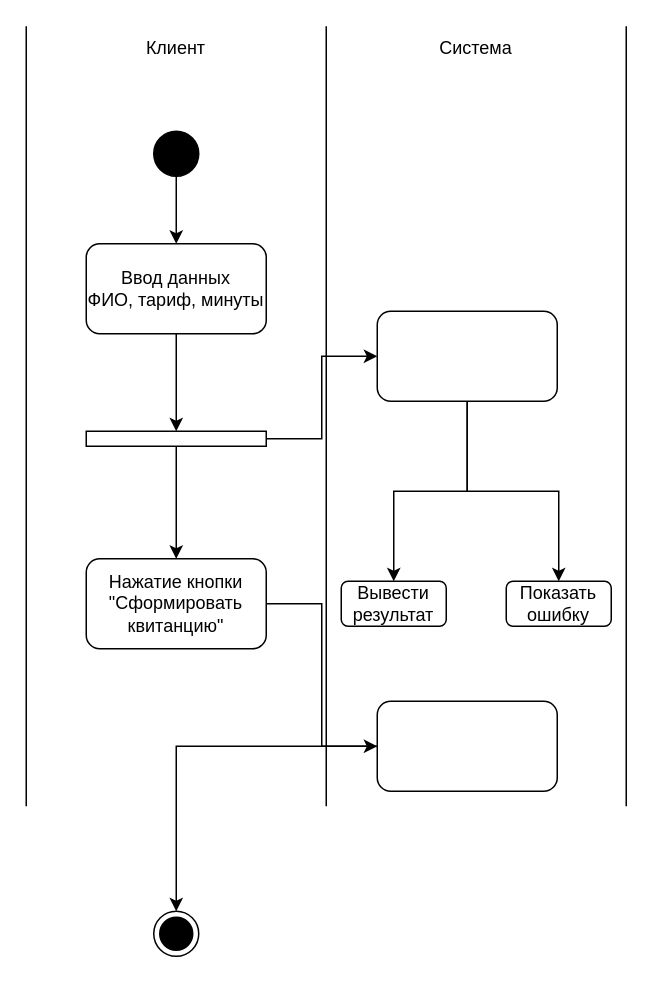
Some shapes in this 654 by 983 pixel diagram are drawn without their labels. Each missing label, with the centre of its shape:
Проверка валидации данных: point 466,355
Создание квитанции: point 466,745
